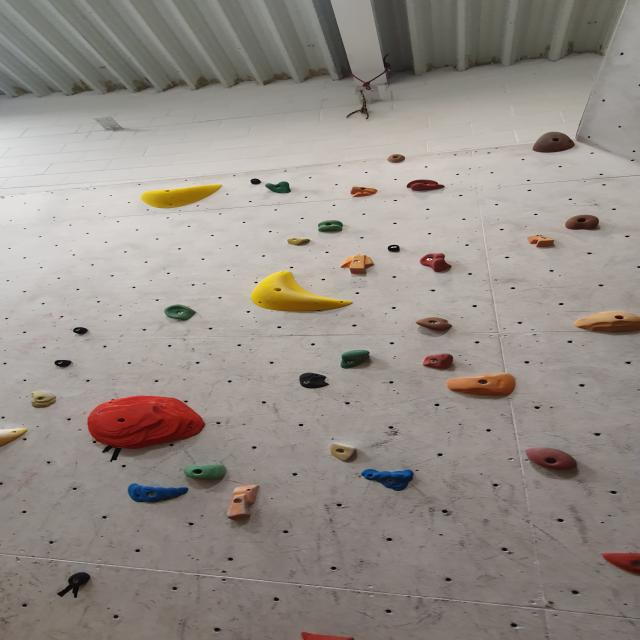Crimp: (86, 397, 212, 449), (126, 484, 192, 505), (358, 470, 416, 492), (328, 444, 360, 464), (405, 179, 447, 192), (29, 391, 59, 408), (298, 632, 358, 640), (347, 185, 381, 198)
Jug: (521, 448, 582, 472), (528, 132, 576, 154), (160, 299, 200, 324), (183, 462, 230, 481), (418, 254, 456, 274), (339, 349, 376, 369), (414, 316, 456, 332), (562, 214, 604, 230), (422, 354, 457, 370), (315, 219, 345, 233), (264, 180, 294, 194), (383, 153, 410, 164)
Pinch: (217, 484, 265, 521), (339, 256, 377, 276), (60, 571, 102, 588), (523, 235, 560, 250), (283, 238, 314, 248), (52, 359, 76, 370), (246, 176, 262, 185), (386, 244, 402, 252), (69, 327, 92, 332)
Sloper: (247, 270, 355, 314), (137, 182, 227, 208), (444, 374, 519, 399), (570, 311, 640, 334), (597, 552, 640, 576), (0, 425, 31, 450), (295, 374, 331, 390)
